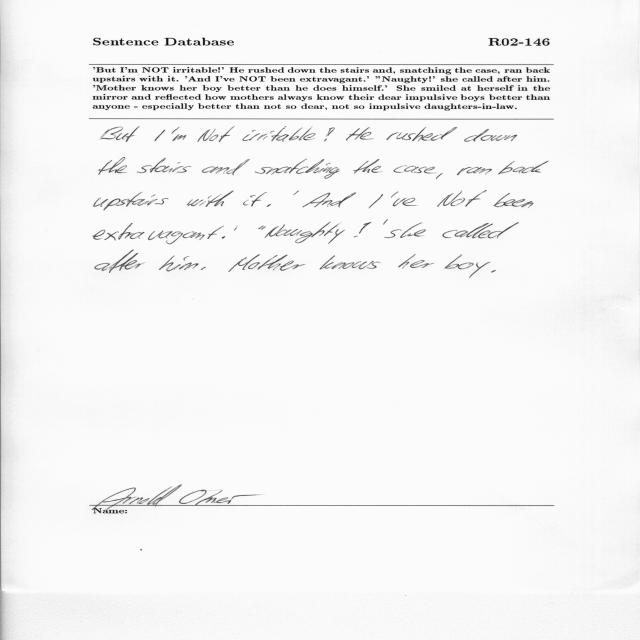word: (90, 485, 259, 505), (93, 223, 224, 244), (265, 222, 346, 244), (266, 159, 340, 179), (94, 193, 169, 211), (442, 223, 519, 239), (95, 250, 145, 273), (242, 127, 316, 142), (445, 254, 491, 278), (387, 127, 457, 141), (248, 255, 306, 271), (320, 256, 381, 270), (437, 190, 487, 207), (137, 158, 191, 173), (303, 193, 357, 208), (129, 487, 172, 505), (202, 159, 250, 175), (187, 191, 234, 207), (465, 129, 518, 142), (498, 161, 549, 174), (159, 256, 199, 272), (384, 223, 426, 238), (494, 193, 534, 208), (198, 127, 235, 143), (228, 254, 260, 272), (398, 254, 435, 269), (99, 157, 127, 175), (354, 159, 382, 174), (391, 192, 418, 207), (394, 165, 437, 174), (116, 126, 139, 142), (243, 192, 267, 207), (346, 127, 370, 141), (101, 127, 123, 140), (457, 167, 492, 175), (354, 222, 371, 237), (172, 127, 187, 141), (369, 194, 383, 209), (324, 128, 335, 142), (155, 130, 166, 141), (255, 167, 272, 174), (360, 132, 373, 140), (436, 174, 443, 180), (258, 226, 266, 230), (383, 220, 388, 225), (293, 191, 299, 195), (234, 226, 237, 231), (201, 267, 206, 270), (267, 204, 271, 207), (491, 270, 496, 272), (222, 236, 225, 239)
